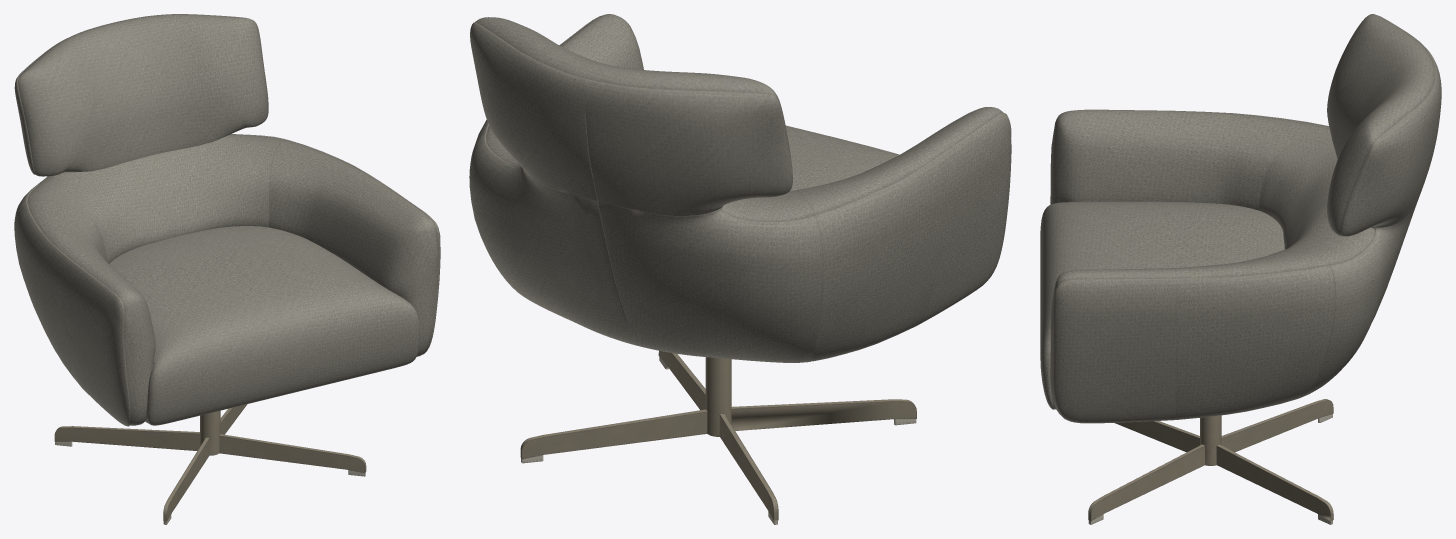
The model's file is B07QGSZ38G.glb.
The picture shows the model from 3 angles, left to right: view 1: azimuth 30°, elevation 25°; view 2: azimuth 150°, elevation 25°; view 3: azimuth 270°, elevation 25°; orthographic projection. The views are drawn at different scales.
Visible parts, largest first — view 1: RootNode; view 2: RootNode; view 3: RootNode.
Part boxes in pixels (x1=…): RootNode: x1=14, y1=14, x2=440, y2=524; RootNode: x1=469, y1=14, x2=1011, y2=524; RootNode: x1=1040, y1=14, x2=1441, y2=524.
Bounding box in the file's own units: 0.76 × 0.81 × 0.73.
1 material, 1 textured.
